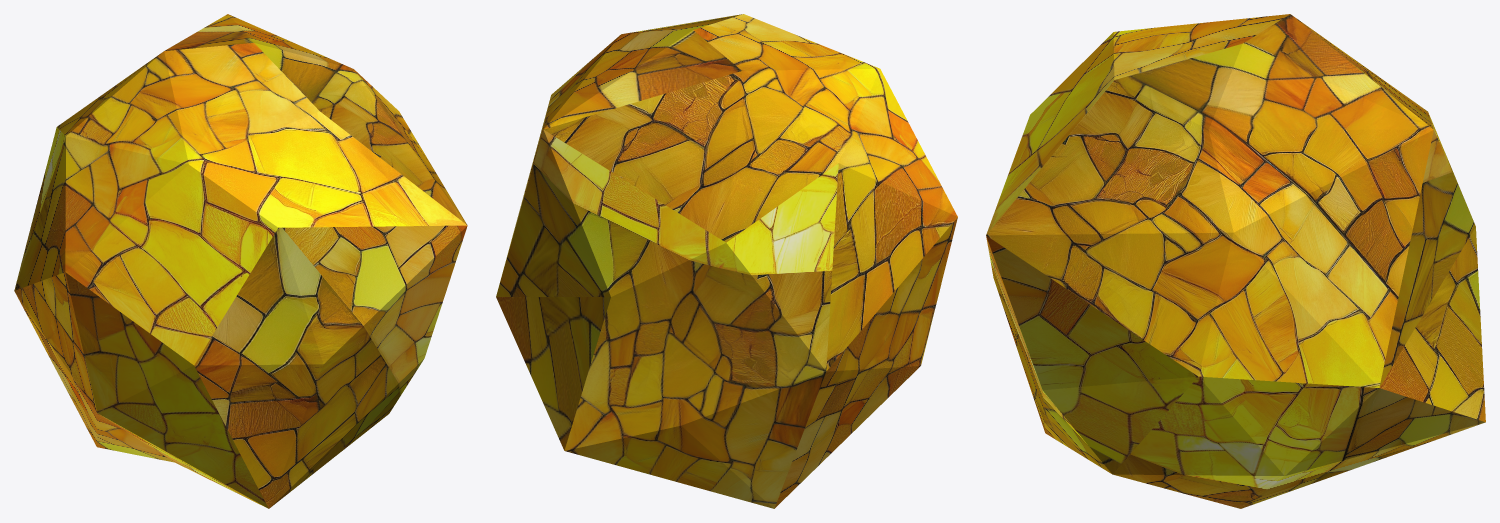
File: star2Yellow.glb
The picture shows the model from 3 angles, left to right: view 1: azimuth 30°, elevation 25°; view 2: azimuth 150°, elevation 25°; view 3: azimuth 270°, elevation 25°; orthographic projection. The views are drawn at different scales.
Visible parts, largest first — view 1: star2; view 2: star2; view 3: star2.
Boxes of the visible parts, left/top/right/bottom form: star2: left=14, top=14, right=467, bottom=508; star2: left=496, top=14, right=957, bottom=508; star2: left=986, top=14, right=1485, bottom=508.
Bounding box in the file's own units: 1 × 1 × 1.
1 material, 1 textured.
